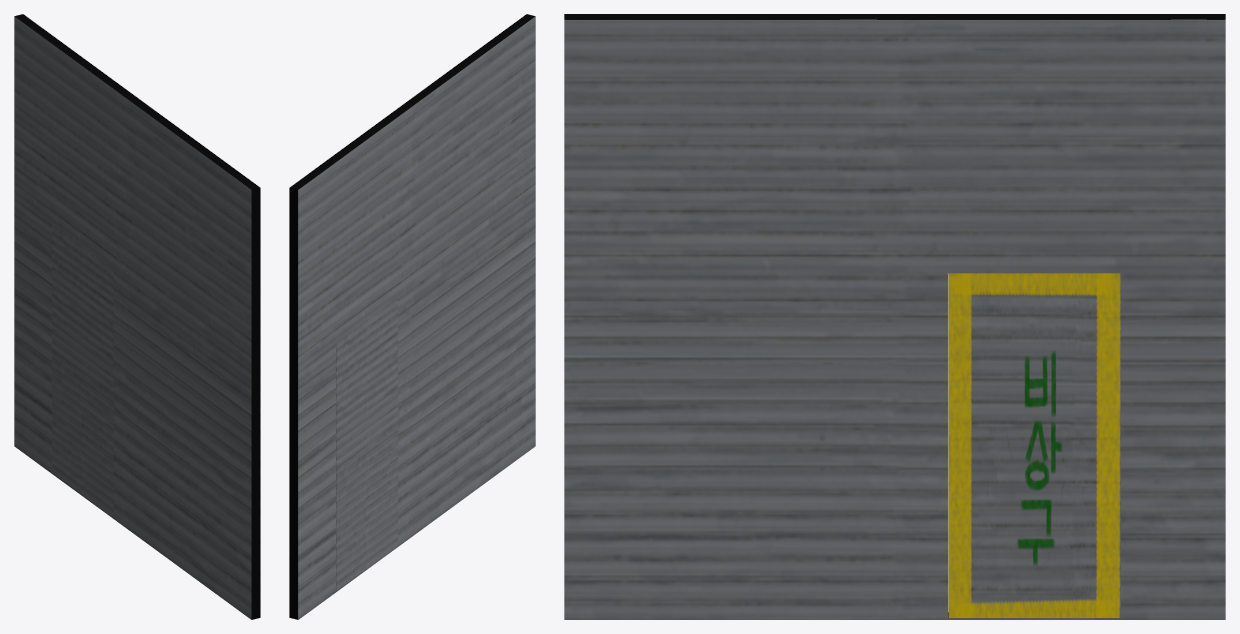
The picture shows the model from 3 angles, left to right: view 1: azimuth 30°, elevation 25°; view 2: azimuth 150°, elevation 25°; view 3: azimuth 270°, elevation 25°; orthographic projection. The views are drawn at different scales.
Visible parts, largest first — view 1: 셔터, 셔터문; view 2: 셔터, 셔터문; view 3: 셔터, 셔터문.
Part boxes in pixels (x1=…): 셔터: x1=14, y1=14, x2=260, y2=619; 셔터문: x1=52, y1=225, x2=113, y2=517; 셔터: x1=289, y1=14, x2=535, y2=619; 셔터문: x1=336, y1=299, x2=397, y2=590; 셔터: x1=564, y1=14, x2=1225, y2=619; 셔터문: x1=948, y1=273, x2=1120, y2=617.
Bounding box in the file's own units: 26.83 × 1198 × 1197.
2 materials, 2 textured.
